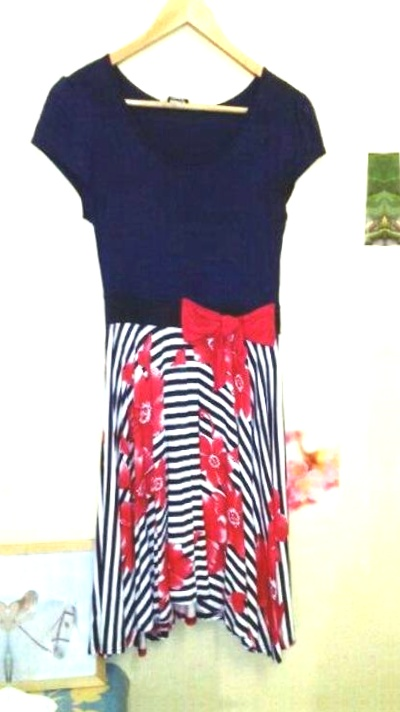Dress: (11, 22, 349, 681)
